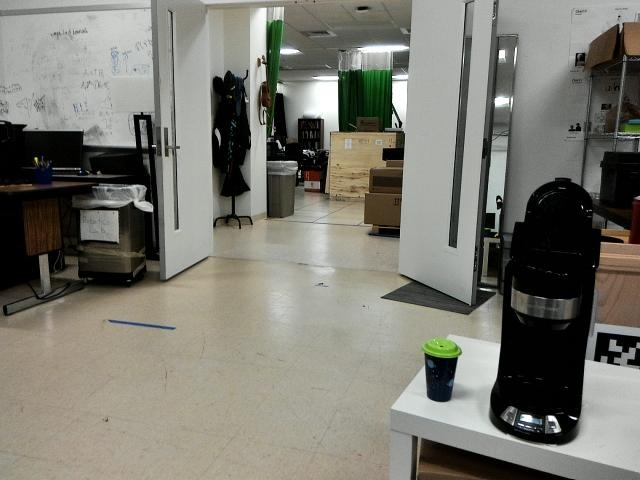water_cup: (420, 337, 460, 405)
